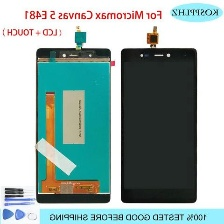phone: (32, 43, 114, 205), (119, 44, 201, 205)
